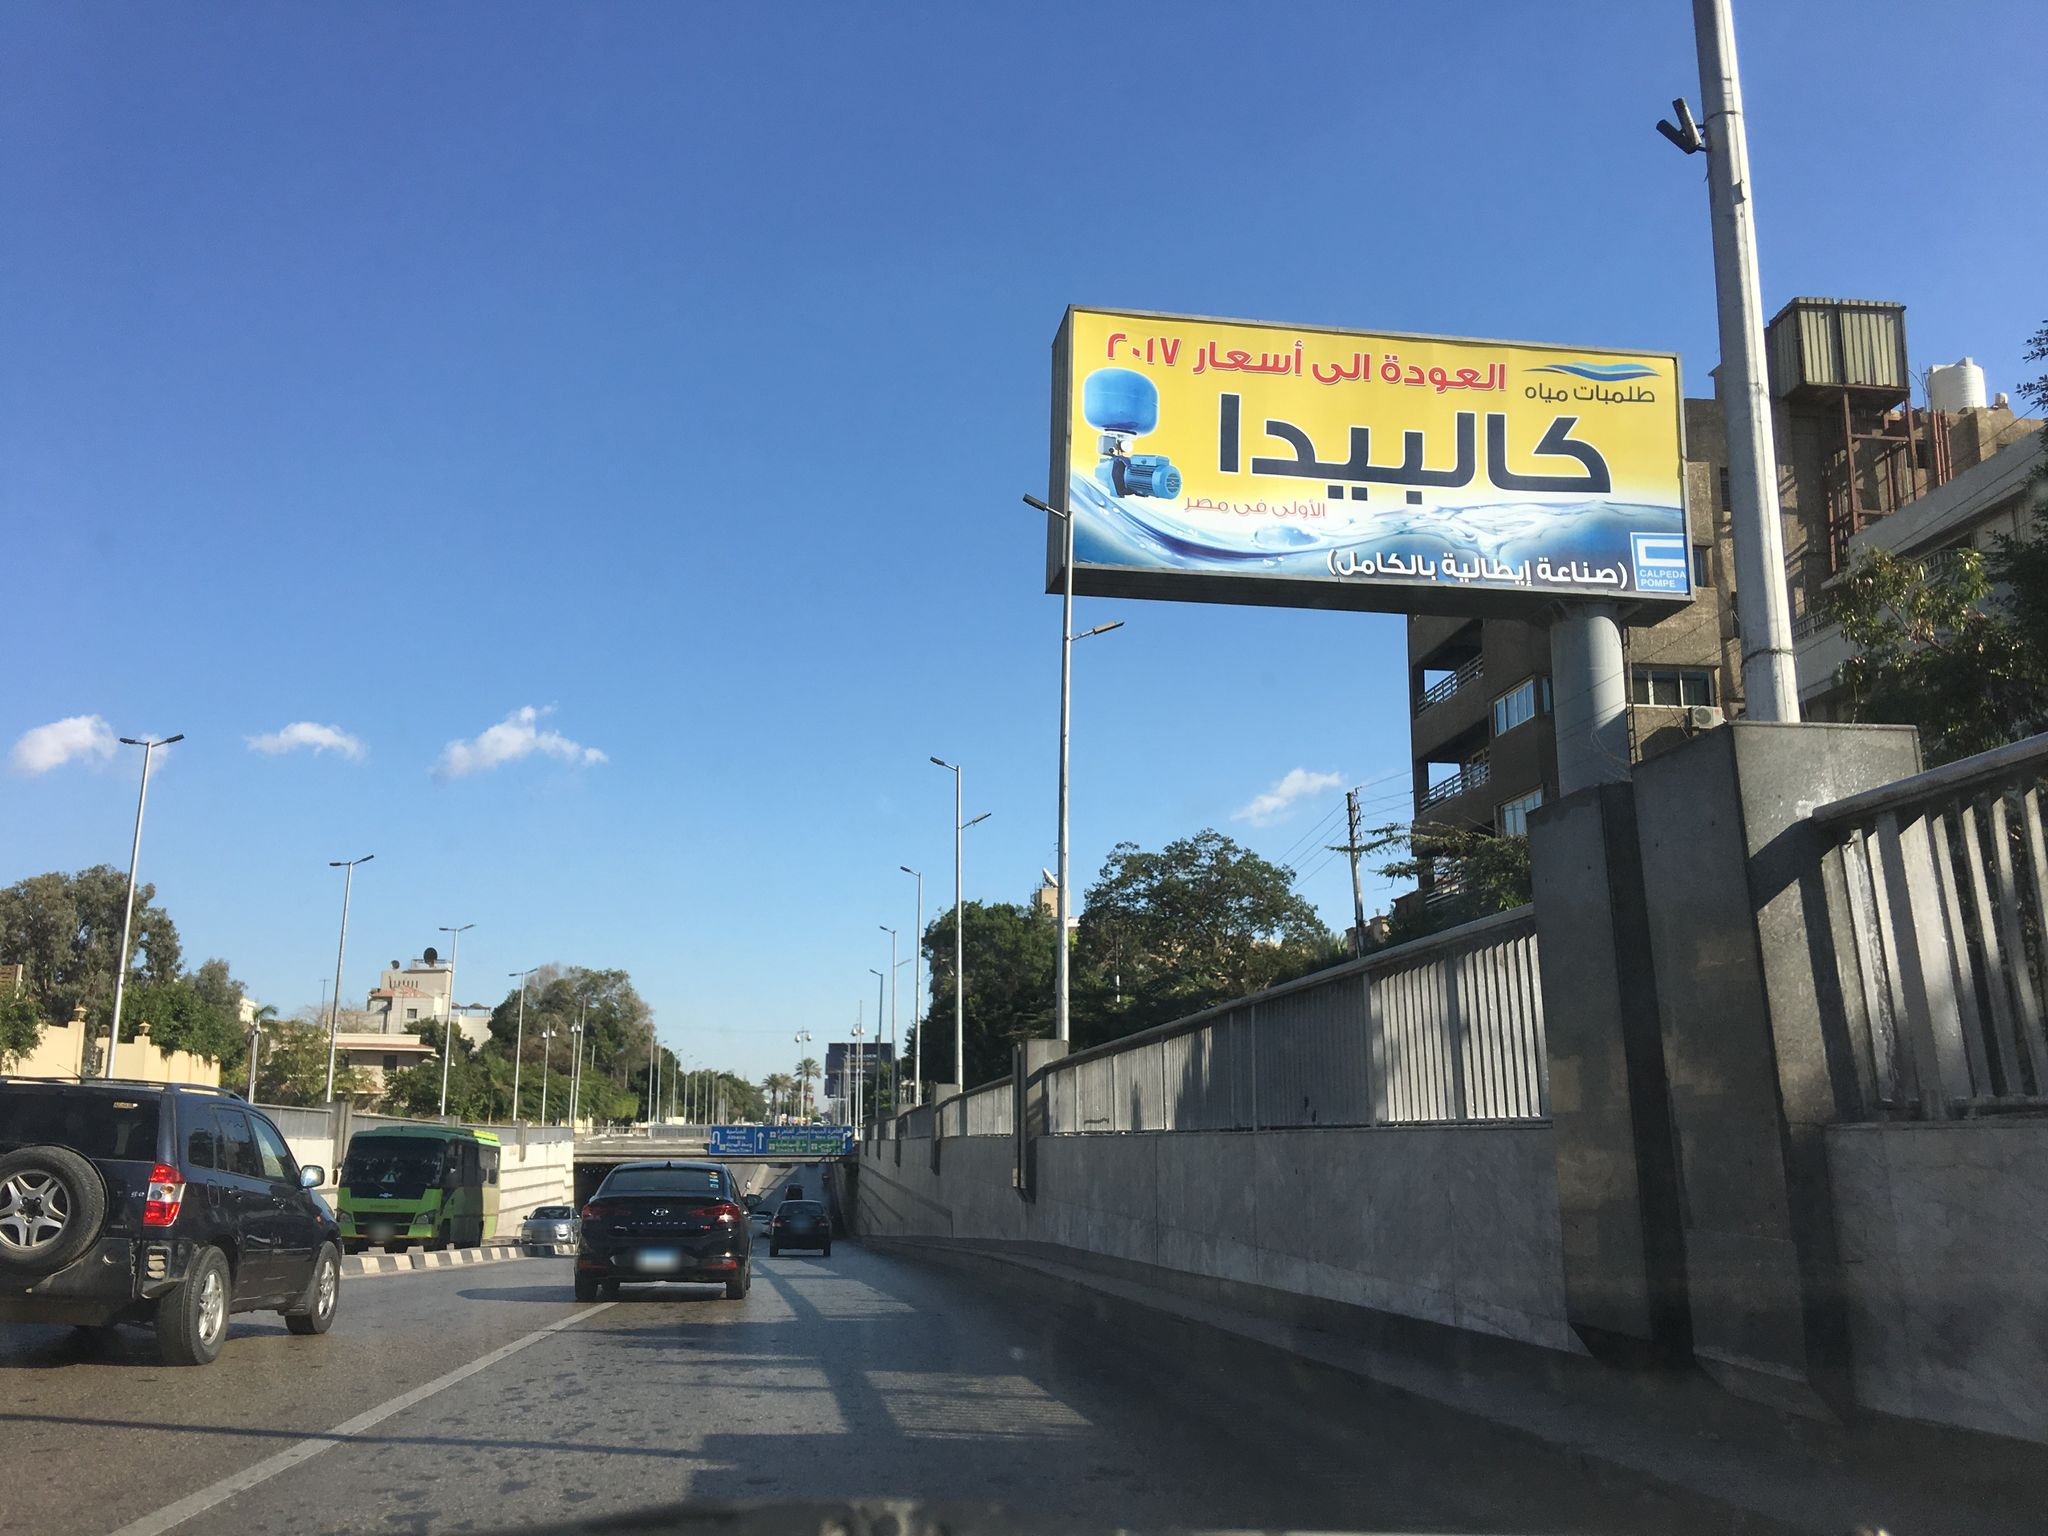bus: (332, 1126, 505, 1258)
car: (0, 1070, 343, 1365), (568, 1158, 763, 1297), (768, 1200, 834, 1255), (521, 1205, 584, 1244), (748, 1212, 772, 1236)
